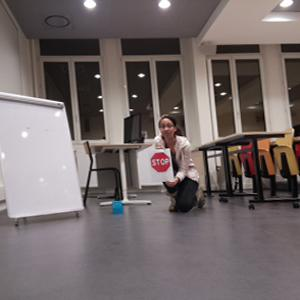big: (1, 94, 84, 223)
small: (112, 200, 123, 215)
